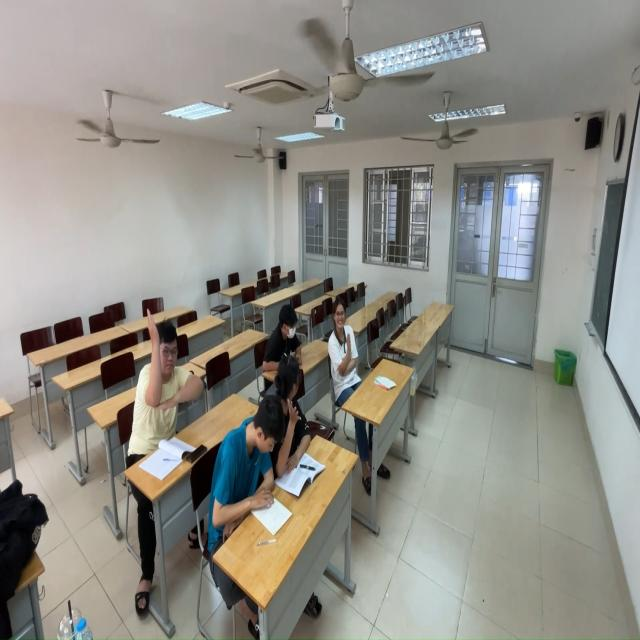raise_hand: (131, 306, 202, 463), (262, 355, 319, 489), (329, 289, 372, 404)
read: (201, 369, 280, 539), (265, 302, 306, 368)
